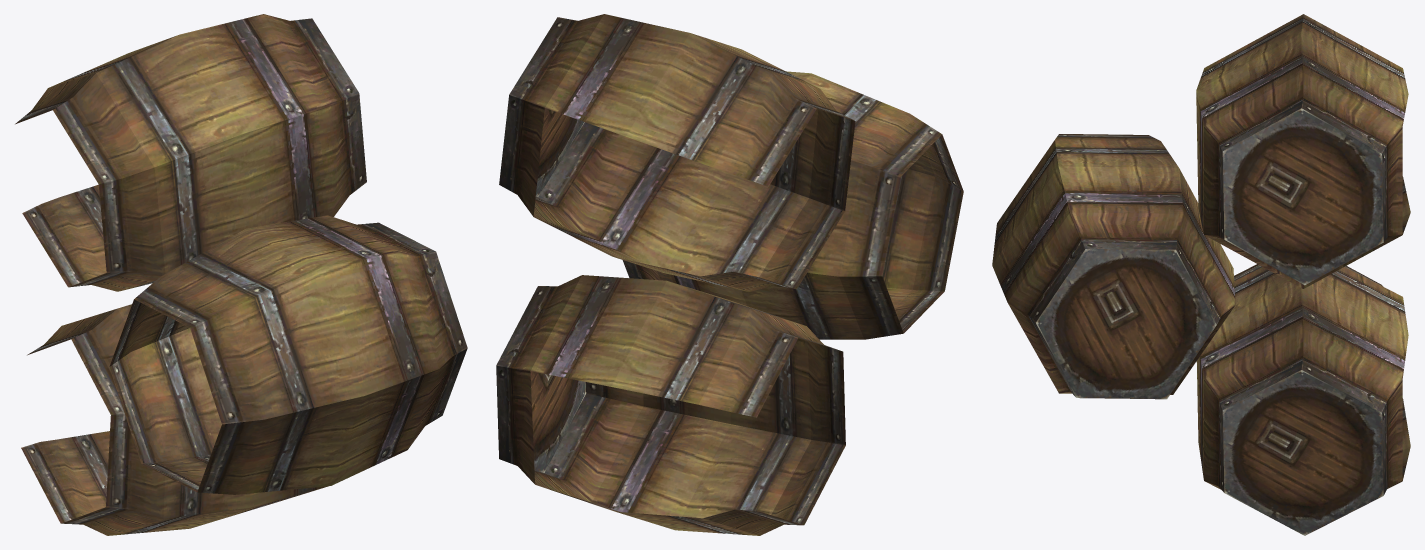
The model's file is zhucheng_yewai_291_mutong_02.obj.
3 views of the same model, side by side, from view 1: azimuth 30°, elevation 25°; view 2: azimuth 150°, elevation 25°; view 3: azimuth 270°, elevation 25° (orthographic). The views are drawn at different scales.
Visible parts, largest first — view 1: zhucheng_yewai_291_jiuba_01; view 2: zhucheng_yewai_291_jiuba_01; view 3: zhucheng_yewai_291_jiuba_01.
Boxes of the visible parts, bbox=[...] form: zhucheng_yewai_291_jiuba_01: bbox=[15, 14, 467, 535]; zhucheng_yewai_291_jiuba_01: bbox=[496, 14, 963, 535]; zhucheng_yewai_291_jiuba_01: bbox=[992, 14, 1410, 535].
Size of the model in its own units: 73.42 by 123 by 102.
1 material, 1 textured.
